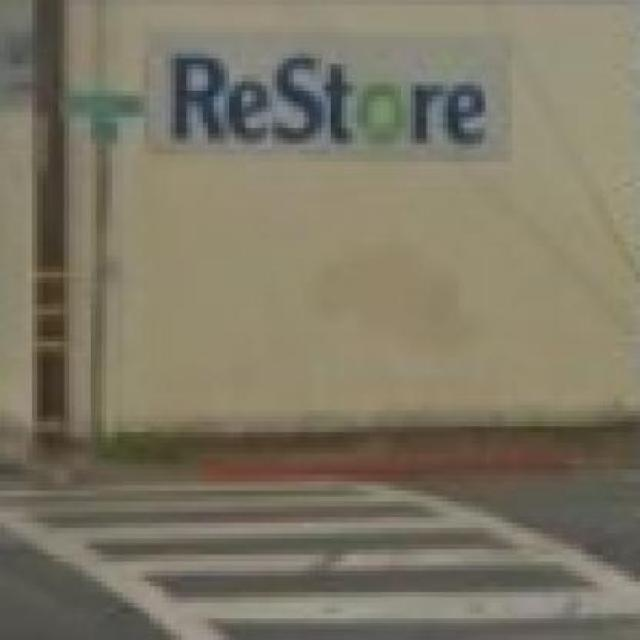crosswalk: (1, 485, 640, 636)
